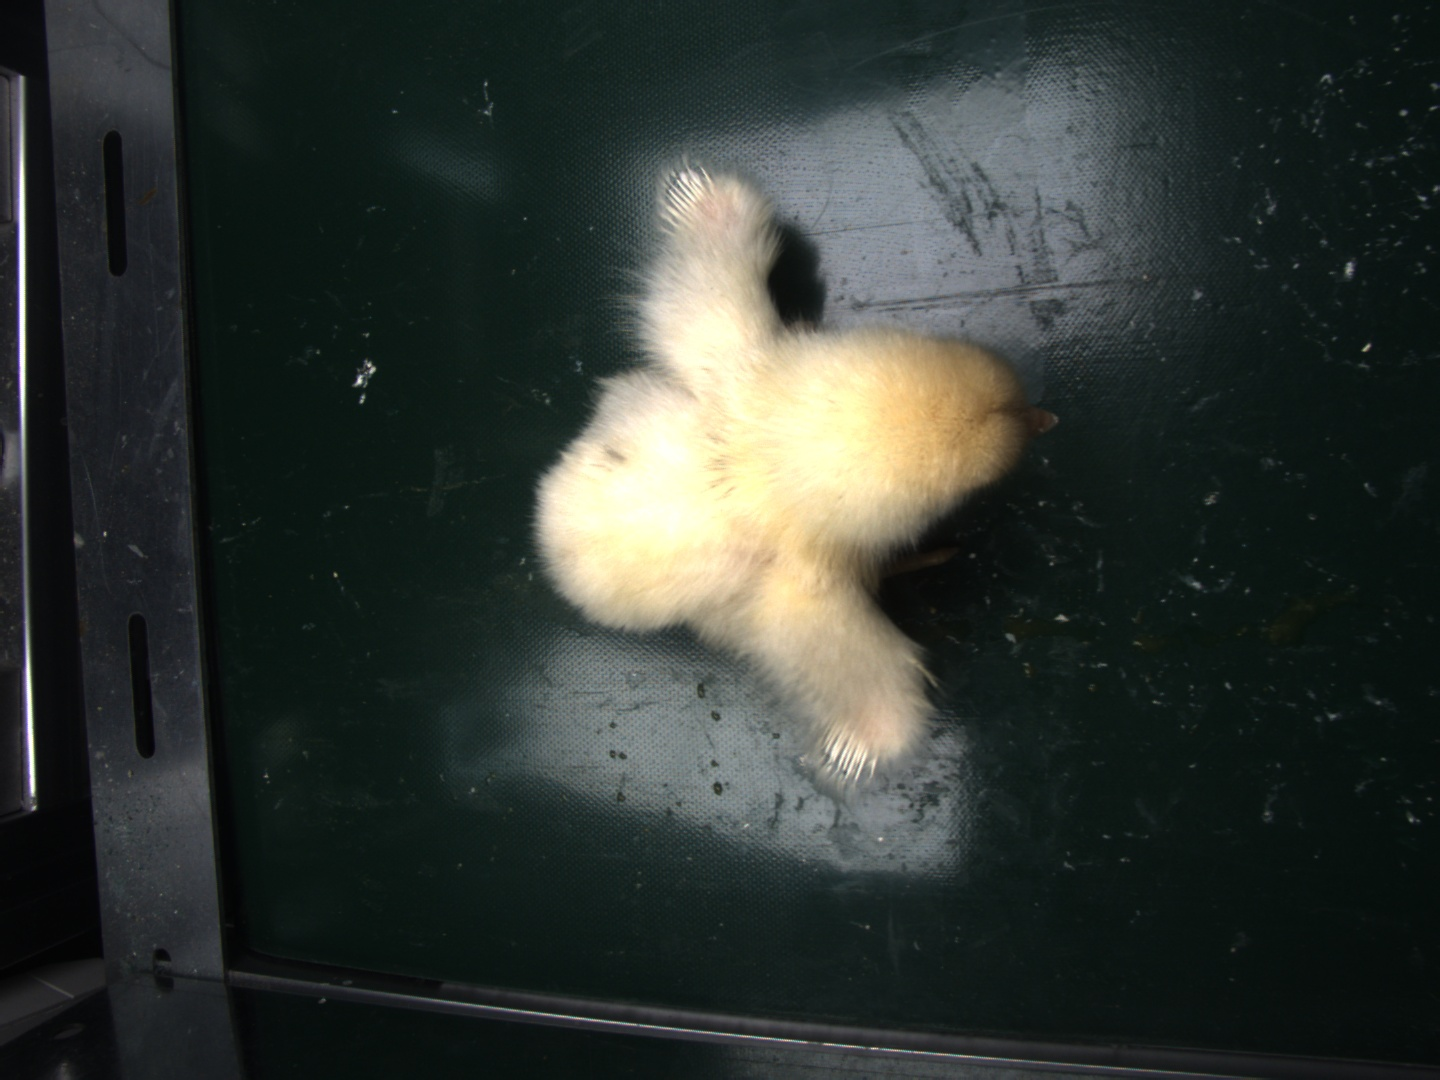male: (818, 725, 876, 778), (663, 172, 713, 226)
